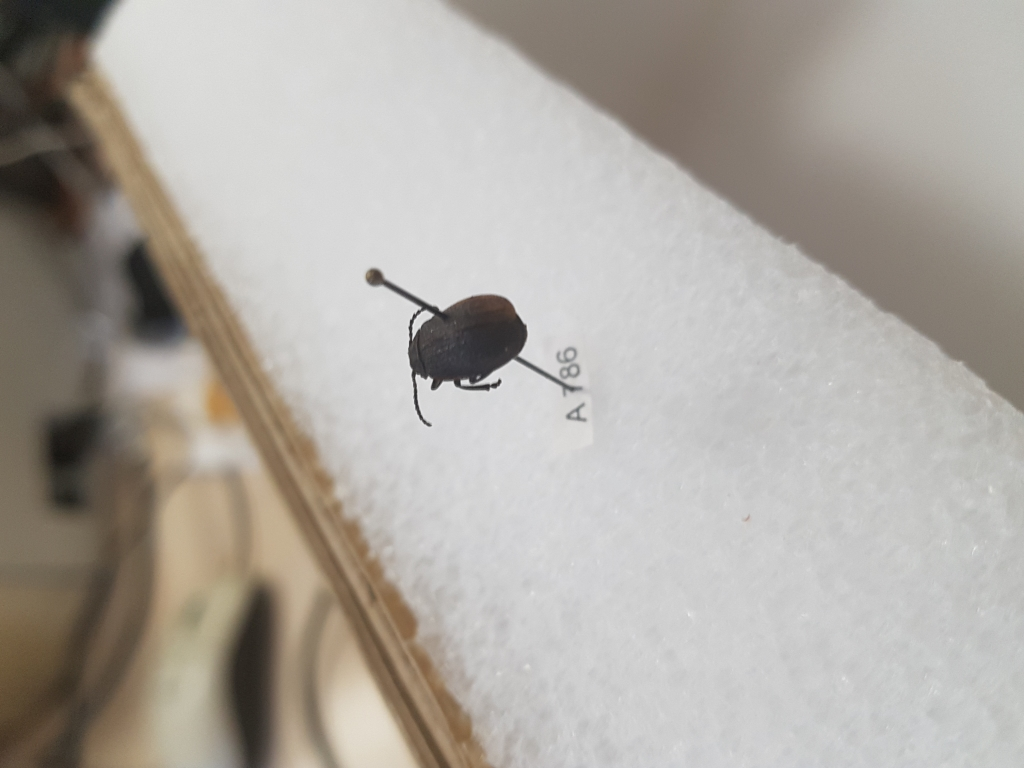Galeruca_tanaceti: (404, 287, 529, 426)
